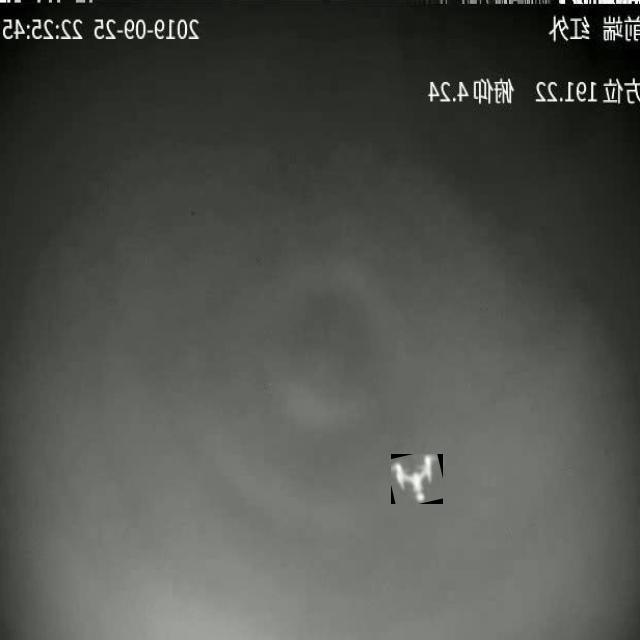drone: (391, 454, 443, 504)
